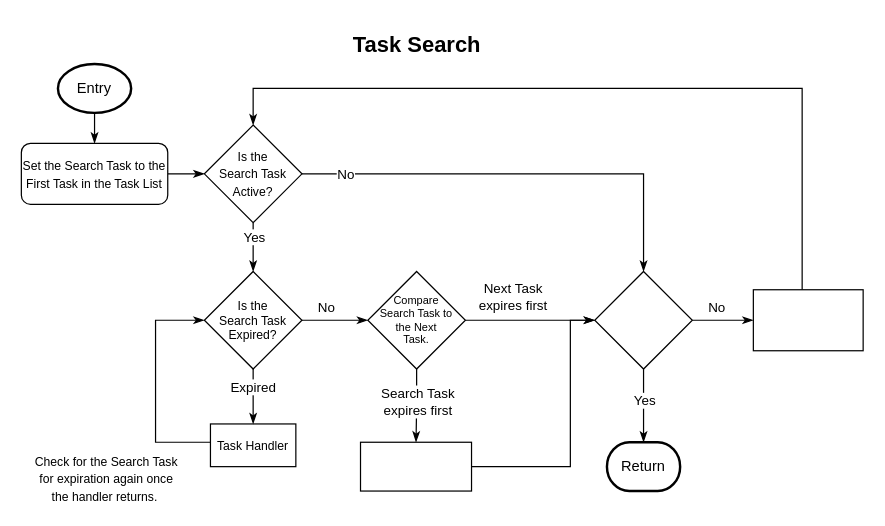
Some shapes in this 885 by 526 pixel diagram are drawn without their labels. The centre of each missing label's shape, as x and y in pixels:
"Increment the Search Task." goes at [807,320].
"Is the Search Task the last task?" goes at [643,319].
"Set the Next Task to the Search Task" goes at [415,466].
